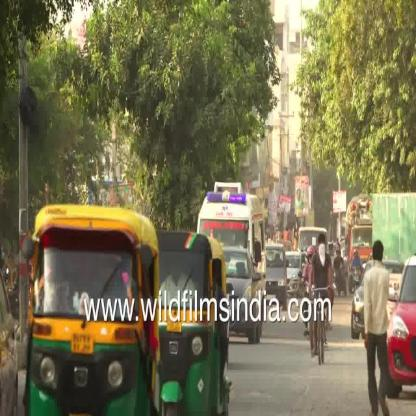priority: (202, 181, 268, 239)
